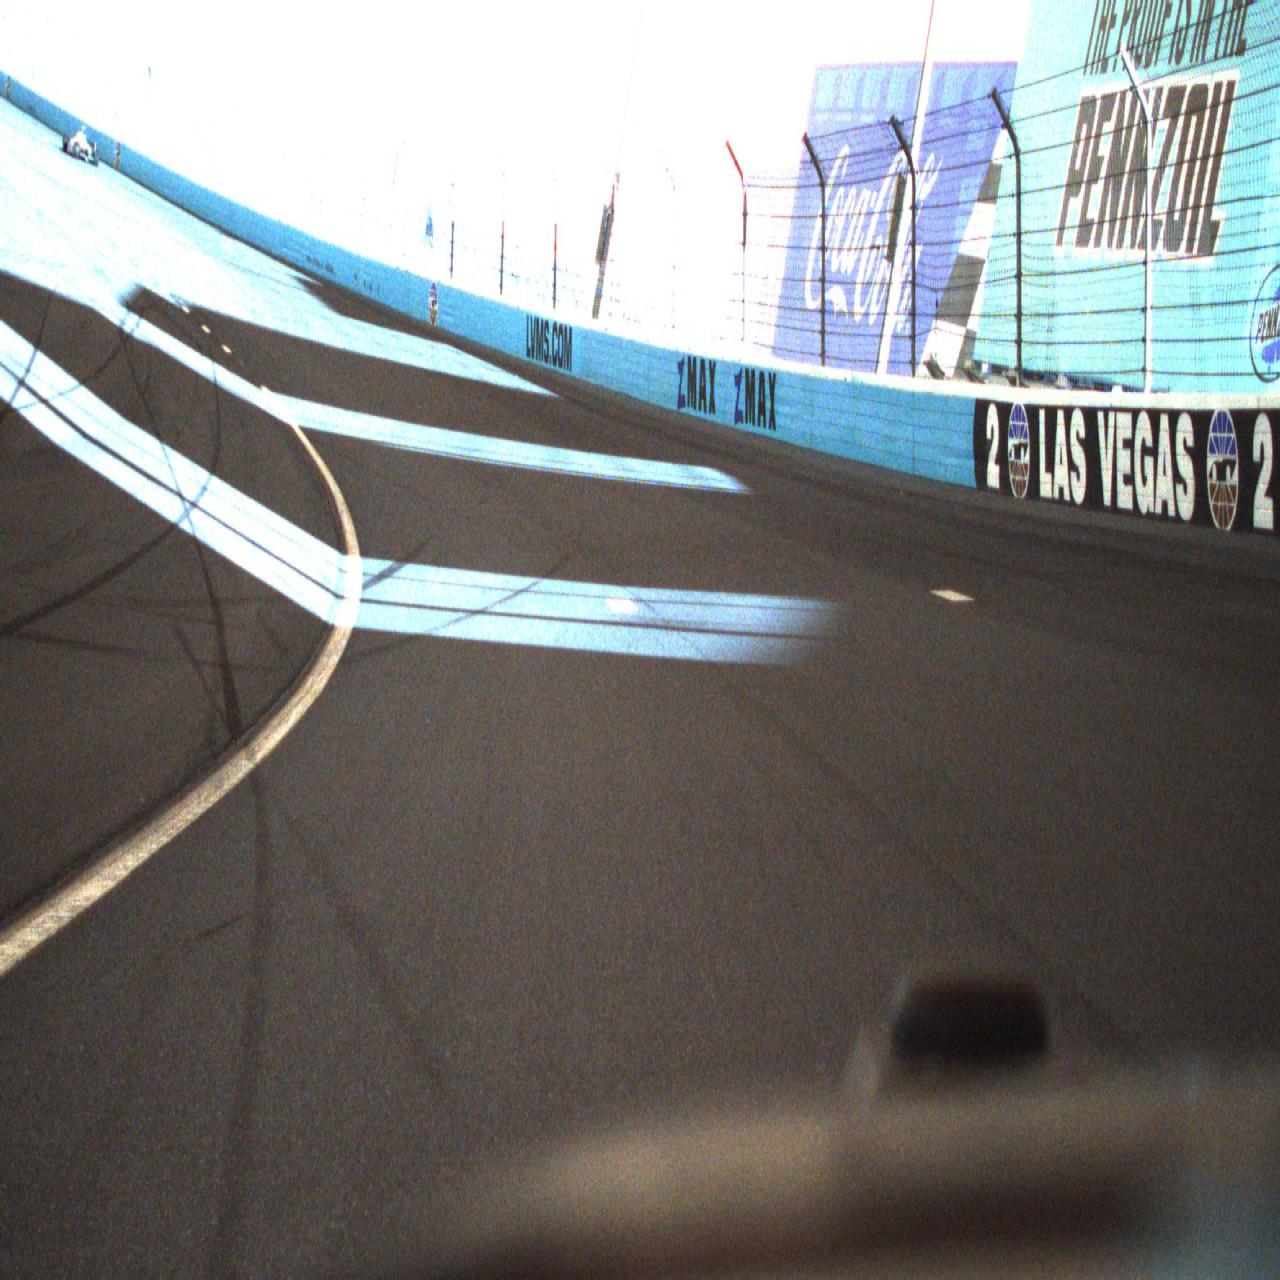AV: (58, 125, 99, 166)
Wheel: (73, 142, 80, 159), (62, 134, 68, 152), (93, 150, 99, 167)
